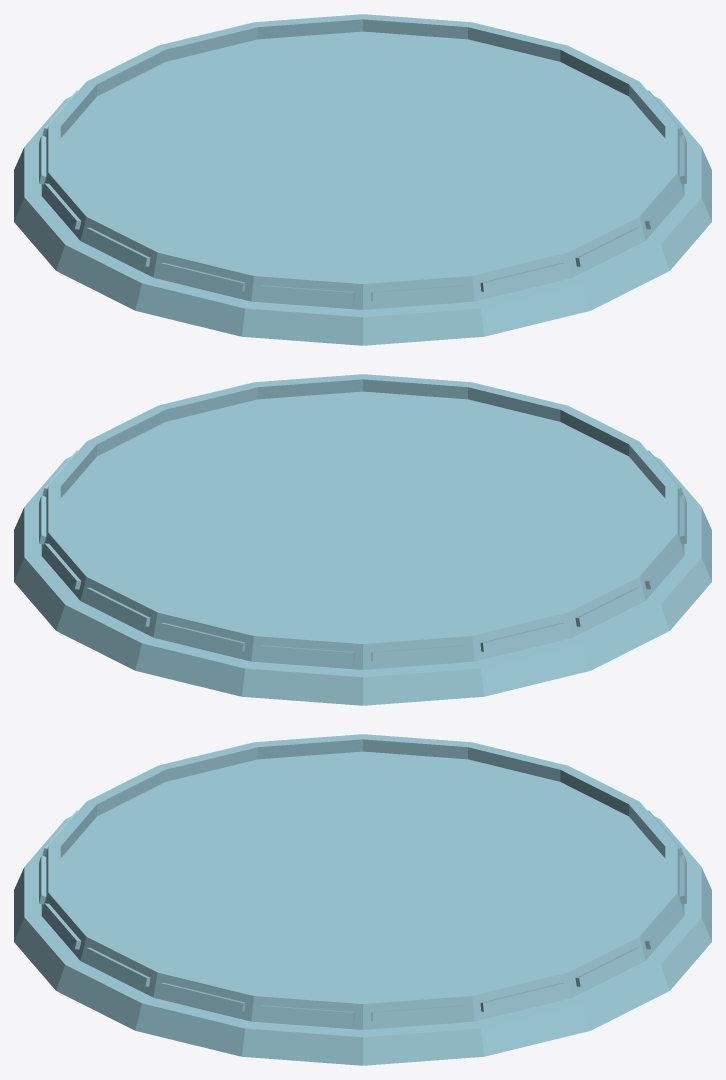
File: platform.fbx
3 renders of one model, top to bottom at view 1: azimuth 30°, elevation 25°; view 2: azimuth 150°, elevation 25°; view 3: azimuth 270°, elevation 25°, orthographic.
Parts seen in each view (by area): view 1: platform; view 2: platform; view 3: platform.
Part boxes in pixels (box(x1,y1,x2,y2)): platform: box(14, 14, 711, 345); platform: box(14, 374, 711, 705); platform: box(14, 734, 711, 1065).
Size of the model in its own units: 395 by 28.83 by 389.
